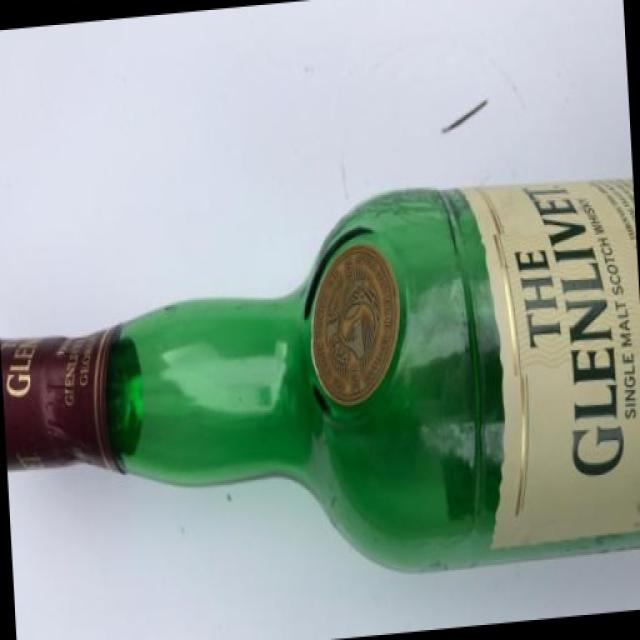vidrio: (0, 146, 640, 580)
